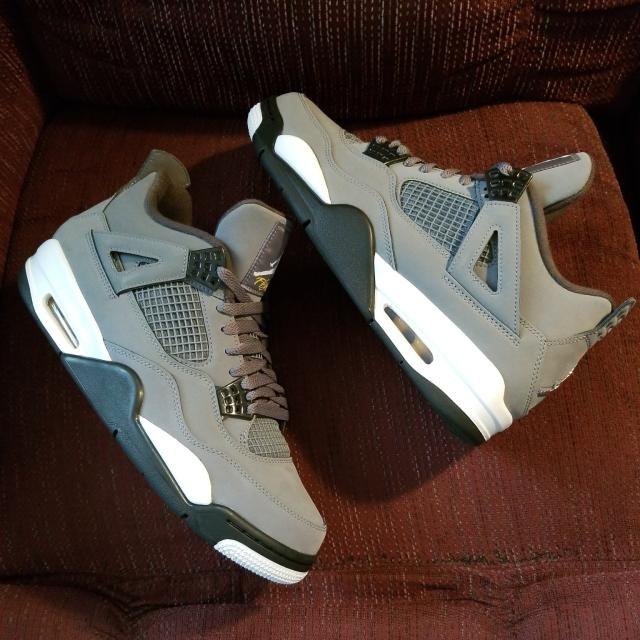shoe: (247, 90, 640, 449), (15, 145, 331, 586)
